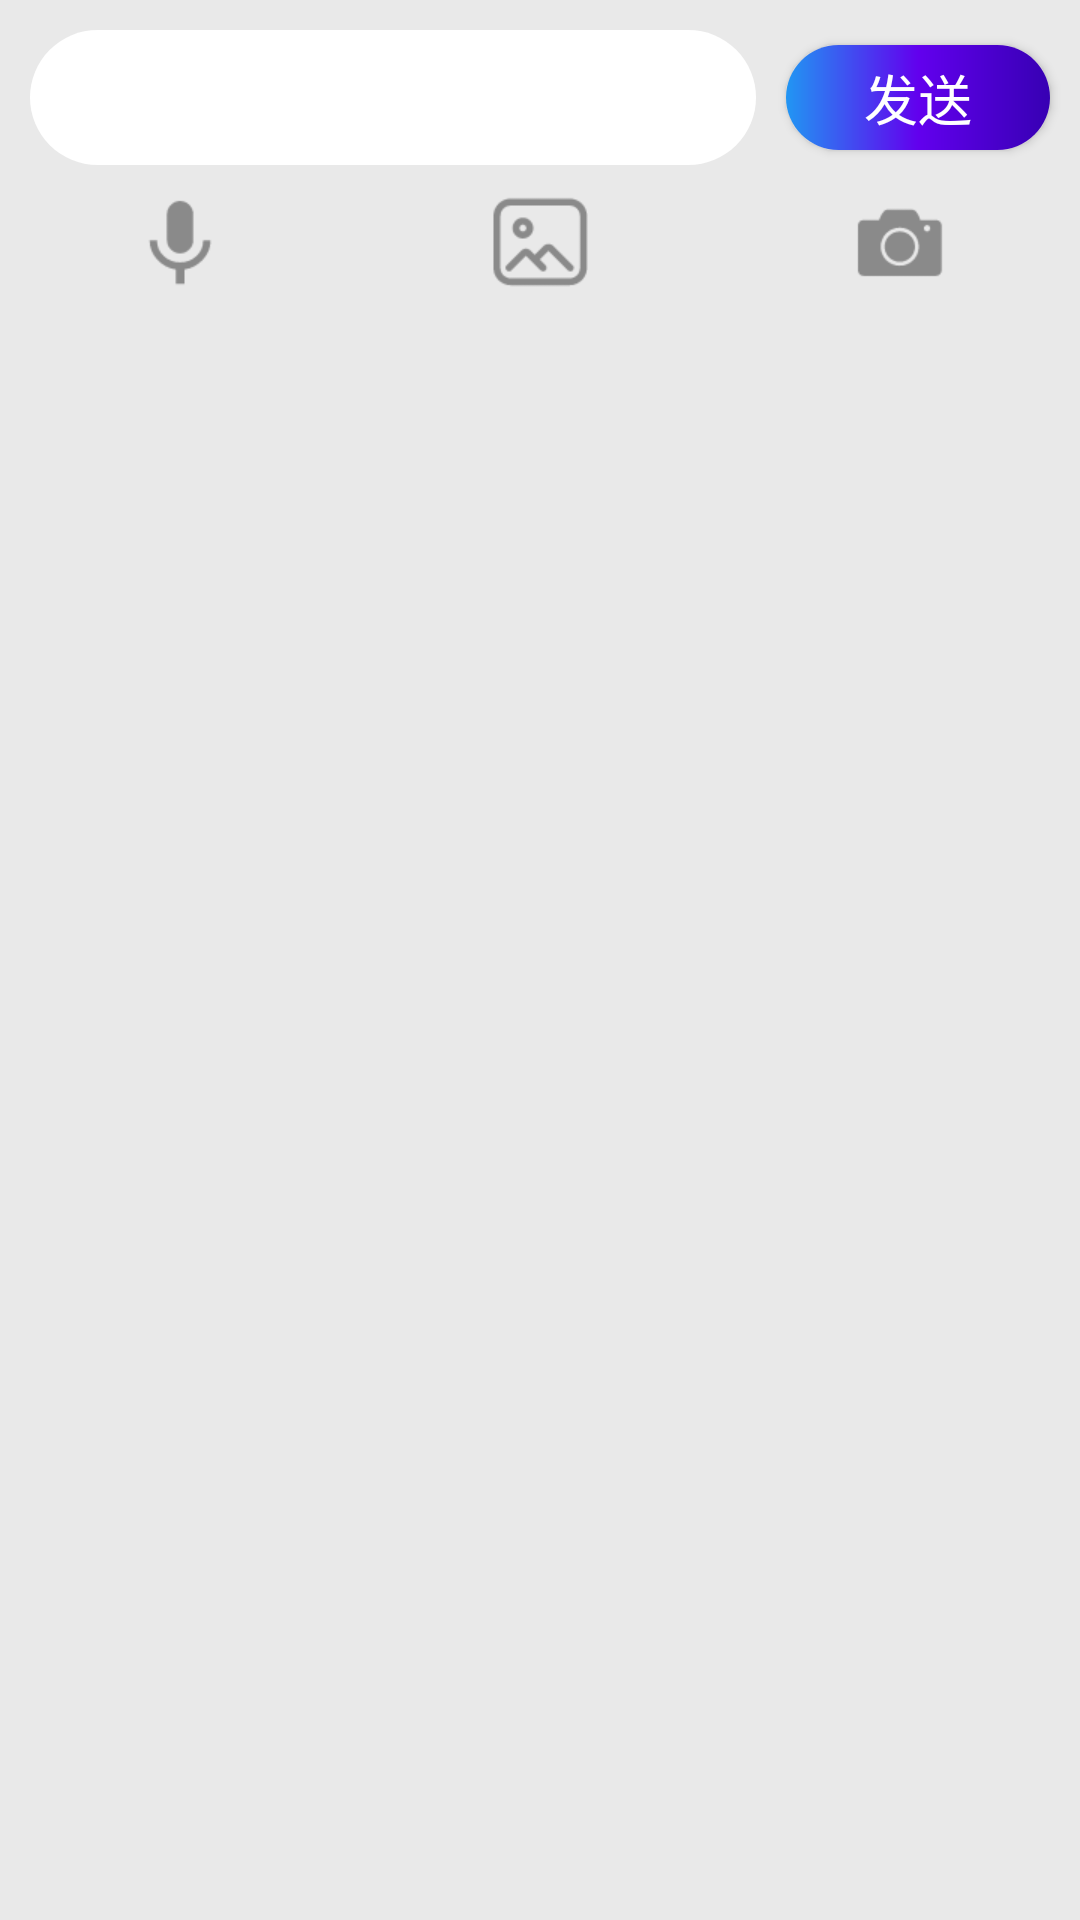

Icon click points for this 1080px x 1920px phone screenshot, format (x=x, y=y):
camera: (x=900, y=242)
mic: (x=180, y=242)
